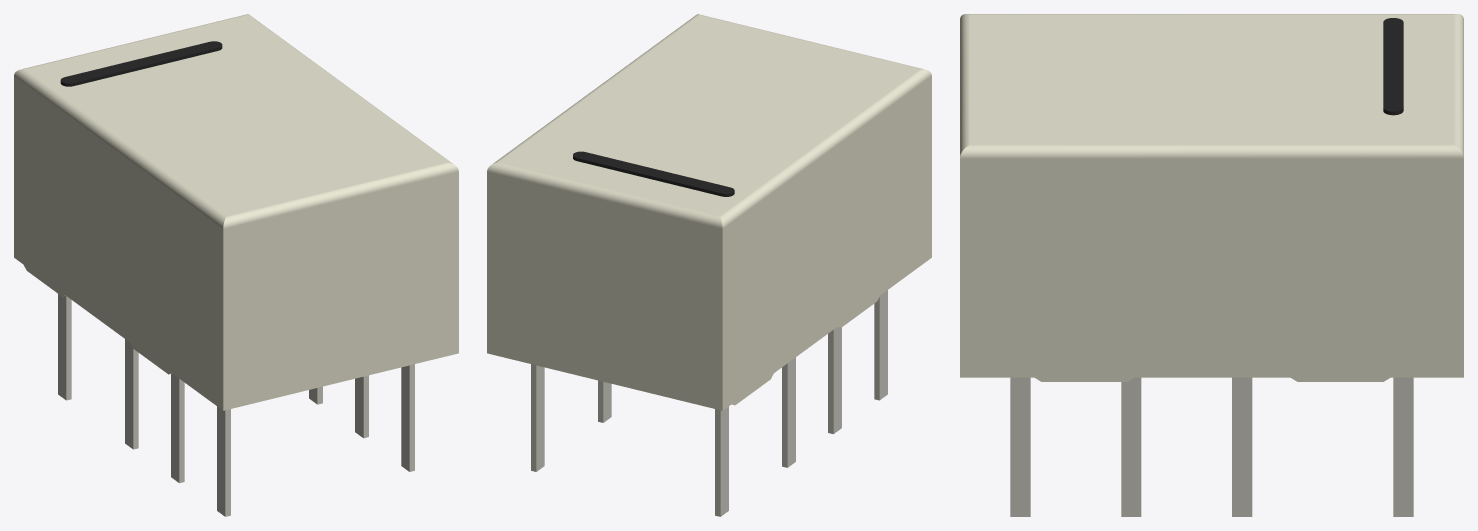
Rendered from kc-relay_dpdt_omron_g6k-2p-y.glb.
3 views of the same model, side by side, from view 1: azimuth 30°, elevation 25°; view 2: azimuth 150°, elevation 25°; view 3: azimuth 270°, elevation 25° (orthographic). The views are drawn at different scales.
Parts seen in each view (by area): view 1: 0.75_0.75_0.6666666666666666_0, 0.6666666666666666_0.6666666666666666_0.5833333333333334_0.8, 0_0_0_0; view 2: 0.75_0.75_0.6666666666666666_0, 0.6666666666666666_0.6666666666666666_0.5833333333333334_0.8, 0_0_0_0; view 3: 0.75_0.75_0.6666666666666666_0, 0.6666666666666666_0.6666666666666666_0.5833333333333334_0.8, 0_0_0_0.
Part boxes in pixels (x1,y1,x2,y2): 0.75_0.75_0.6666666666666666_0: [14, 14, 458, 410]; 0.6666666666666666_0.6666666666666666_0.5833333333333334_0.8: [58, 294, 414, 516]; 0_0_0_0: [60, 41, 222, 86]; 0.75_0.75_0.6666666666666666_0: [487, 14, 931, 410]; 0.6666666666666666_0.6666666666666666_0.5833333333333334_0.8: [531, 290, 887, 516]; 0_0_0_0: [573, 151, 734, 196]; 0.75_0.75_0.6666666666666666_0: [960, 14, 1463, 381]; 0.6666666666666666_0.6666666666666666_0.5833333333333334_0.8: [1010, 377, 1413, 516]; 0_0_0_0: [1383, 18, 1403, 115].
Bounding box in the file's own units: 0.65 × 0.843 × 1.
